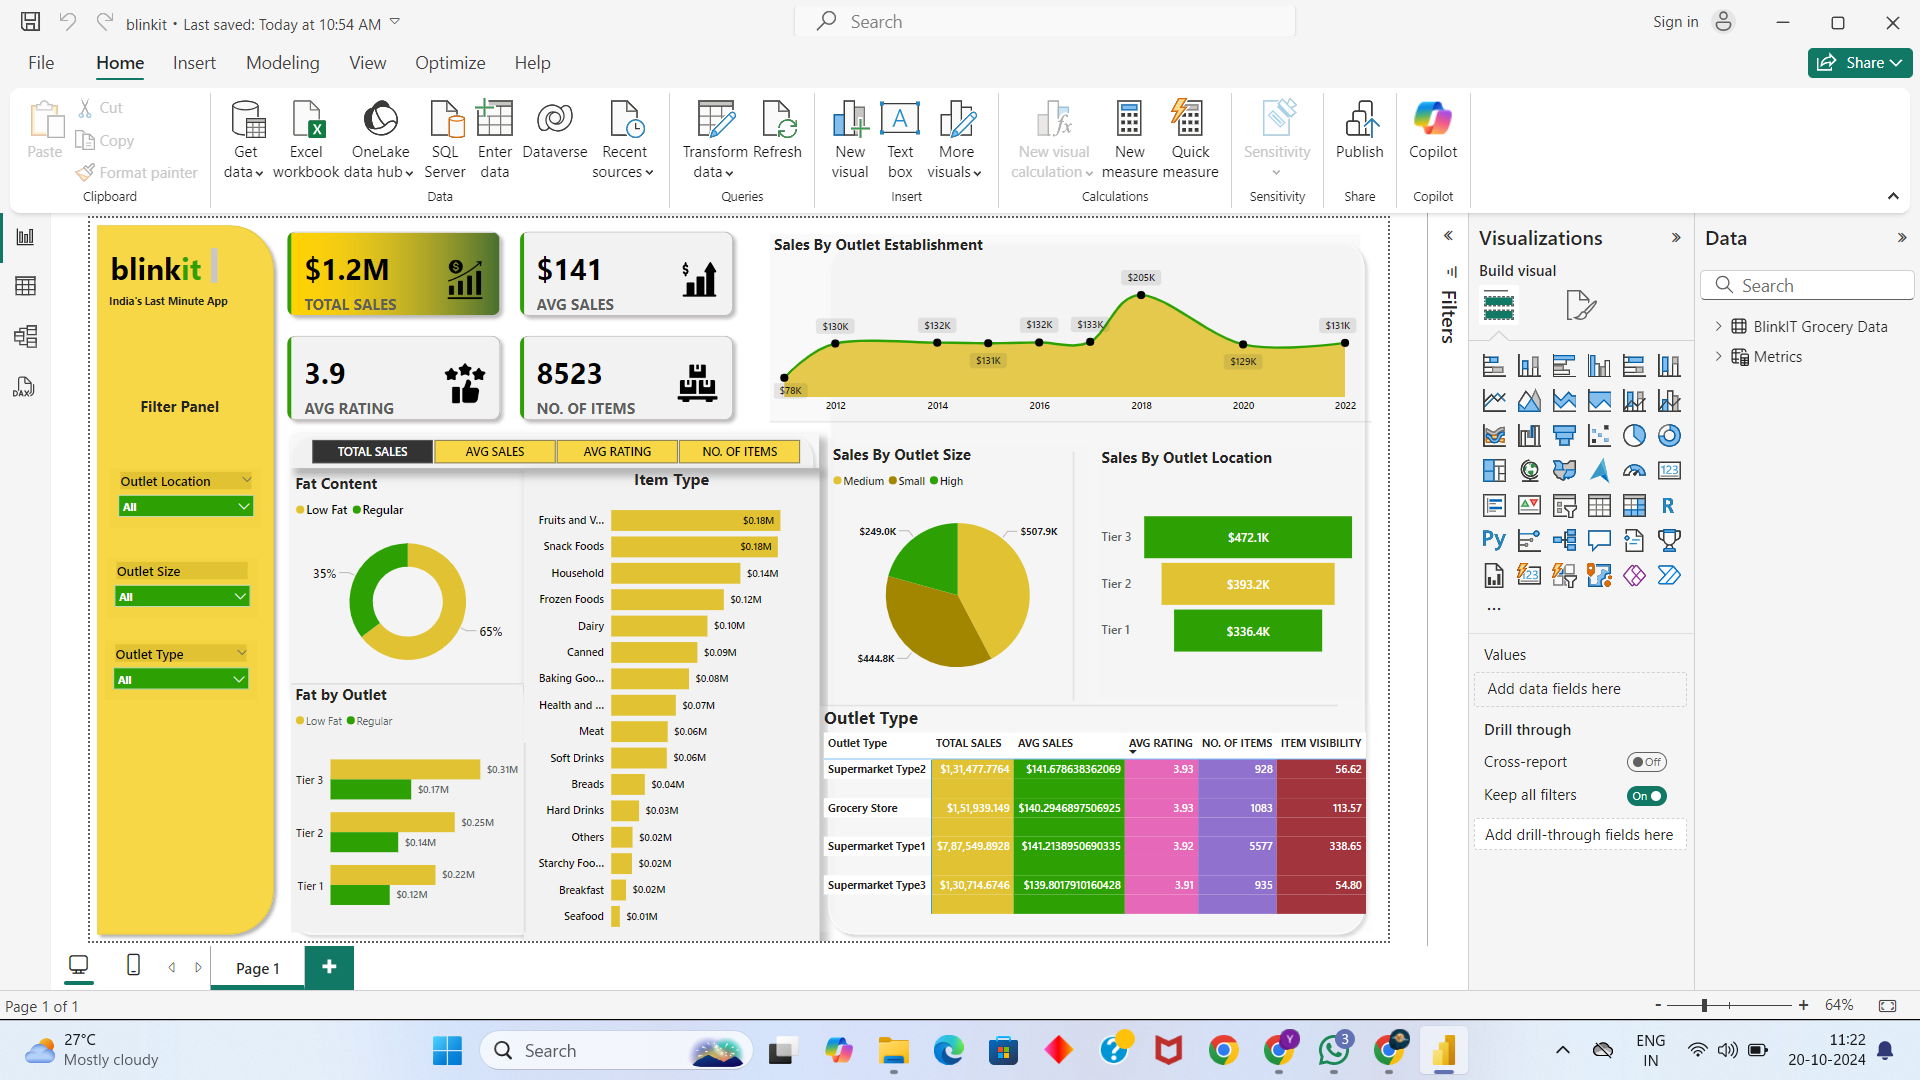

This screenshot's page, from the dashboard's own definition file:
{"tool":"powerbi","page":{"name":"Page 1","canvas":[1614,900],"ordinal":0},"visuals":[{"type":"shape","box":[0,0,237.5,900.3],"z":0},{"type":"textbox","box":[18.8,32.2,144.8,56.3],"z":1000},{"type":"textbox","box":[18.8,88.5,170.2,29.5],"z":1001},{"type":"cardVisual","fields":{"Data":["BlinkIT Grocery Data.TOTAL SALES","BlinkIT Grocery Data.AVG SALES","BlinkIT Grocery Data.AVG RATING","BlinkIT Grocery Data.NO. OF ITEMS"]},"box":[228.7,0,589.4,268.3],"z":1002},{"type":"shape","box":[237.5,259.5,670.1,640.7],"z":1003},{"type":"donutChart","title":"Fat Content","fields":{"Category":["BlinkIT Grocery Data.Item Fat Content"],"Y":["BlinkIT Grocery Data.TOTAL SALES"]},"box":[250.7,316.7,290.3,263.9],"z":1004},{"type":"barChart","title":"Item Type","fields":{"Category":["BlinkIT Grocery Data.Item Type"],"Y":["BlinkIT Grocery Data.TOTAL SALES"]},"box":[539.6,310.8,368,589.4],"z":1006},{"type":"slicer","fields":{"Values":["Metrics.Metrics"]},"box":[250.7,268.3,656.9,42.5],"z":1007},{"type":"clusteredBarChart","title":"Fat by Outlet ","fields":{"Category":["BlinkIT Grocery Data.Outlet Location Type"],"Y":["BlinkIT Grocery Data.TOTAL SALES"],"Series":["BlinkIT Grocery Data.Item Fat Content"]},"box":[250.8,580.5,288.8,308.5],"z":1008},{"type":"shape","box":[909.1,20.5,684.7,879.7],"z":1009},{"type":"lineChart","title":" Sales By Outlet Establishment ","fields":{"Category":["BlinkIT Grocery Data.Outlet Establishment Year"],"Y":["BlinkIT Grocery Data.TOTAL SALES"]},"box":[846,20.5,734.6,231.7],"z":1010},{"type":"pieChart","title":"Sales By Outlet Size","fields":{"Category":["BlinkIT Grocery Data.Outlet Size"],"Y":["BlinkIT Grocery Data.TOTAL SALES"]},"box":[918.6,281.8,321.2,321.2],"z":1011},{"type":"funnel","title":"Sales By Outlet Location ","fields":{"Y":["BlinkIT Grocery Data.TOTAL SALES"],"Category":["BlinkIT Grocery Data.Outlet Location Type"]},"box":[1253.9,284.6,326.9,315.6],"z":1012},{"type":"pivotTable","title":"Outlet Type","fields":{"Rows":["BlinkIT Grocery Data.Outlet Type"],"Values":["BlinkIT Grocery Data.TOTAL SALES","BlinkIT Grocery Data.AVG SALES","BlinkIT Grocery Data.AVG RATING","BlinkIT Grocery Data.NO. OF ITEMS","Sum(BlinkIT Grocery Data.Item Visibility)"]},"box":[907.6,607,686.2,281.5],"z":1013},{"type":"shape","box":[470.6,653.7,139.5,235.3],"z":1014},{"type":"shape","box":[250.8,462.1,288.8,235.3],"z":1015},{"type":"shape","box":[1153.9,290.2,139.5,310],"z":1016},{"type":"shape","box":[908.7,569.2,643.9,74.7],"z":1017},{"type":"shape","box":[845.3,215.6,748.1,74.7],"z":1018},{"type":"slicer","fields":{"Values":["BlinkIT Grocery Data.Outlet Location Type"]},"box":[24.9,310.8,189.1,74.8],"z":1019},{"type":"slicer","fields":{"Values":["BlinkIT Grocery Data.Outlet Size"]},"box":[20.5,422.3,189.1,74.8],"z":1022},{"type":"slicer","fields":{"Values":["BlinkIT Grocery Data.Outlet Type"]},"box":[19.1,524.9,189.1,74.8],"z":1023},{"type":"textbox","box":[57.2,215.5,120.2,36.7],"z":1024}]}

Visuals, with their boxes on the page's 1614x900 design canvas (x1, y1, x2, y2). These are canvas units, not pixel positions in the 1920x1080 screenshot, which may show the page scaled, cropped or inside an application window:
shape: [x1=0, y1=0, x2=238, y2=900]
textbox: [x1=19, y1=32, x2=164, y2=88]
textbox: [x1=19, y1=88, x2=189, y2=118]
cardVisual - BlinkIT Grocery Data.TOTAL SALES x BlinkIT Grocery Data.AVG SALES: [x1=229, y1=0, x2=818, y2=268]
shape: [x1=238, y1=260, x2=908, y2=900]
"Fat Content" donutChart: [x1=251, y1=317, x2=541, y2=581]
"Item Type" barChart: [x1=540, y1=311, x2=908, y2=900]
slicer - Metrics.Metrics: [x1=251, y1=268, x2=908, y2=311]
"Fat by Outlet " clusteredBarChart: [x1=251, y1=580, x2=540, y2=889]
shape: [x1=909, y1=20, x2=1594, y2=900]
" Sales By Outlet Establishment " lineChart: [x1=846, y1=20, x2=1581, y2=252]
"Sales By Outlet Size" pieChart: [x1=919, y1=282, x2=1240, y2=603]
"Sales By Outlet Location " funnel: [x1=1254, y1=285, x2=1581, y2=600]
"Outlet Type" pivotTable: [x1=908, y1=607, x2=1594, y2=888]
shape: [x1=471, y1=654, x2=610, y2=889]
shape: [x1=251, y1=462, x2=540, y2=697]
shape: [x1=1154, y1=290, x2=1293, y2=600]
shape: [x1=909, y1=569, x2=1553, y2=644]
shape: [x1=845, y1=216, x2=1593, y2=290]
slicer - BlinkIT Grocery Data.Outlet Location Type: [x1=25, y1=311, x2=214, y2=386]
slicer - BlinkIT Grocery Data.Outlet Size: [x1=20, y1=422, x2=210, y2=497]
slicer - BlinkIT Grocery Data.Outlet Type: [x1=19, y1=525, x2=208, y2=600]
textbox: [x1=57, y1=216, x2=177, y2=252]
